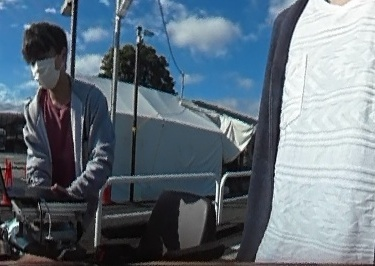person: (13, 21, 109, 249)
